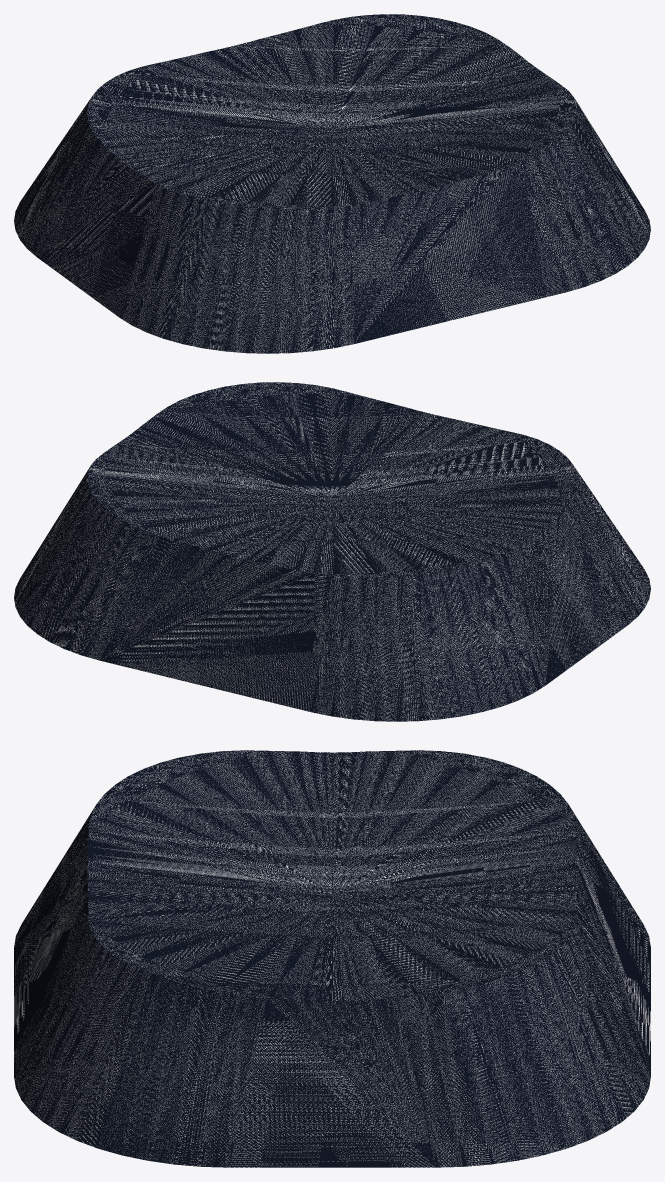
The model's file is original-3.obj.
3 views of the same model, one above another, from view 1: azimuth 30°, elevation 25°; view 2: azimuth 150°, elevation 25°; view 3: azimuth 270°, elevation 25° (orthographic). The views are drawn at different scales.
Visible parts, largest first — view 1: Group3/mesh3/mesh3-geometry#mesh3-geometry; view 2: Group3/mesh3/mesh3-geometry#mesh3-geometry; view 3: Group3/mesh3/mesh3-geometry#mesh3-geometry.
Boxes of the visible parts, x1,y1,x2,y2 form: Group3/mesh3/mesh3-geometry#mesh3-geometry: [14, 14, 650, 353]; Group3/mesh3/mesh3-geometry#mesh3-geometry: [14, 382, 650, 721]; Group3/mesh3/mesh3-geometry#mesh3-geometry: [14, 750, 650, 1167].
Size of the model in its own units: 0.0542 by 0.0116 by 0.0469.
